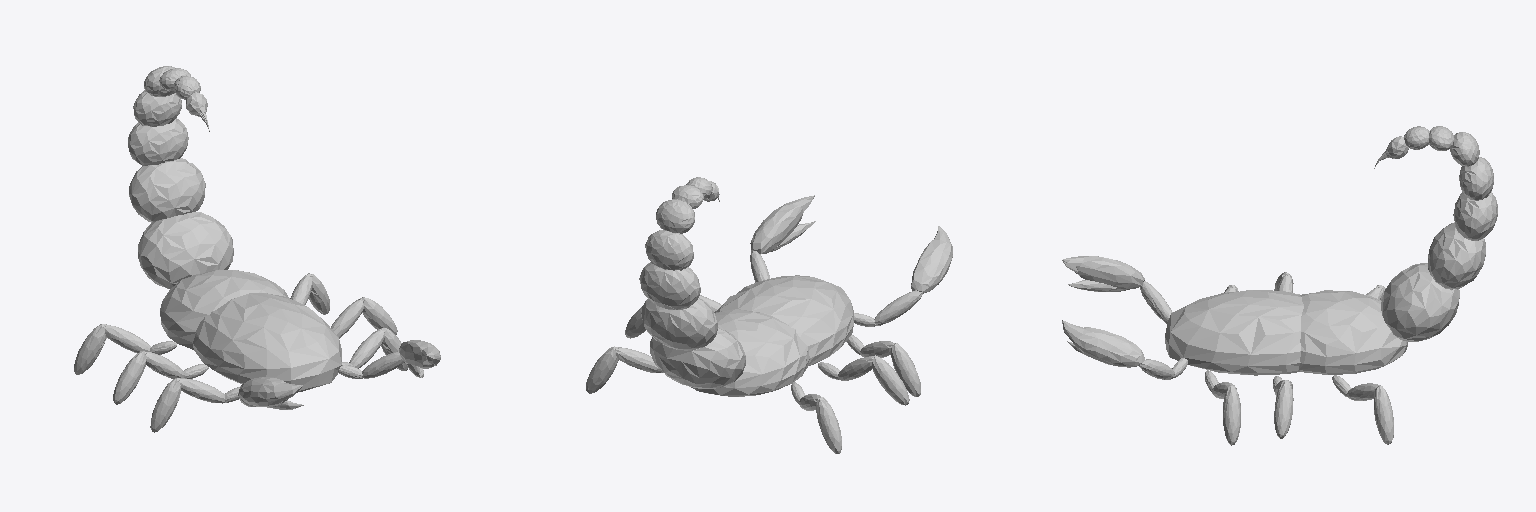
The model's file is scorpion_000039.obj.
3 views of the same model, side by side, from view 1: azimuth 30°, elevation 25°; view 2: azimuth 150°, elevation 25°; view 3: azimuth 270°, elevation 25° (orthographic).
Visible parts, largest first — view 1: Sphere.010_Sphere.012, Sphere.002_Sphere.004, Sphere.011_Sphere.013, Sphere.003_Sphere.005, Sphere.030_Sphere.000, Sphere.004_Sphere.006, Sphere.012_Sphere.020, Sphere.014_Sphere.023, Sphere.013_Sphere.017, Sphere.000_Sphere.019, Sphere.005_Sphere.007, Sphere.016_Sphere.022 (+3 smaller); view 2: Sphere.010_Sphere.012, Sphere.011_Sphere.013, Sphere.002_Sphere.004, Sphere.030_Sphere.000, Sphere.003_Sphere.005, Sphere.004_Sphere.006, Sphere.014_Sphere.023, Sphere.005_Sphere.007, Sphere.012_Sphere.020, Sphere.028_Sphere.046, Sphere.006_Sphere.008, Sphere.018_Sphere.025 (+3 smaller); view 3: Sphere.010_Sphere.012, Sphere.011_Sphere.013, Sphere.002_Sphere.004, Sphere.030_Sphere.000, Sphere.003_Sphere.005, Sphere.004_Sphere.006, Sphere.005_Sphere.007, Sphere.028_Sphere.046, Sphere.012_Sphere.020, Sphere.014_Sphere.023, Sphere.000_Sphere.019, Sphere.006_Sphere.008 (+1 smaller).
Boxes of the visible parts, box(x1,y1,x2,y2) form: Sphere.010_Sphere.012: box(193, 293, 341, 391); Sphere.002_Sphere.004: box(138, 212, 233, 288); Sphere.011_Sphere.013: box(160, 270, 288, 349); Sphere.003_Sphere.005: box(129, 158, 205, 222); Sphere.030_Sphere.000: box(239, 340, 440, 406); Sphere.004_Sphere.006: box(128, 118, 188, 165); Sphere.012_Sphere.020: box(113, 297, 397, 404); Sphere.014_Sphere.023: box(74, 273, 329, 374); Sphere.013_Sphere.017: box(179, 329, 384, 403); Sphere.000_Sphere.019: box(150, 328, 407, 432); Sphere.005_Sphere.007: box(133, 90, 181, 126); Sphere.016_Sphere.022: box(145, 298, 363, 378); Sphere.010_Sphere.012: box(714, 275, 853, 365); Sphere.011_Sphere.013: box(691, 309, 809, 396); Sphere.002_Sphere.004: box(650, 325, 745, 388); Sphere.030_Sphere.000: box(750, 195, 952, 293); Sphere.003_Sphere.005: box(641, 298, 717, 350); Sphere.004_Sphere.006: box(639, 262, 700, 309); Sphere.014_Sphere.023: box(586, 346, 841, 453); Sphere.005_Sphere.007: box(645, 230, 693, 270); Sphere.012_Sphere.020: box(625, 307, 909, 405); Sphere.028_Sphere.046: box(750, 251, 922, 325); Sphere.006_Sphere.008: box(656, 199, 694, 233); Sphere.018_Sphere.025: box(615, 347, 820, 410); Sphere.010_Sphere.012: box(1165, 290, 1303, 375); Sphere.011_Sphere.013: box(1299, 290, 1407, 374); Sphere.002_Sphere.004: box(1381, 263, 1459, 341); Sphere.030_Sphere.000: box(1062, 256, 1144, 367); Sphere.003_Sphere.005: box(1428, 222, 1485, 289); Sphere.004_Sphere.006: box(1453, 191, 1497, 240); Sphere.005_Sphere.007: box(1459, 157, 1493, 200); Sphere.028_Sphere.046: box(1139, 281, 1174, 379); Sphere.012_Sphere.020: box(1274, 272, 1293, 438); Sphere.014_Sphere.023: box(1374, 285, 1393, 444); Sphere.000_Sphere.019: box(1223, 285, 1240, 445); Sphere.006_Sphere.008: box(1450, 132, 1479, 166).
Size of the model in its own units: 0.963 by 0.8335 by 1.28.